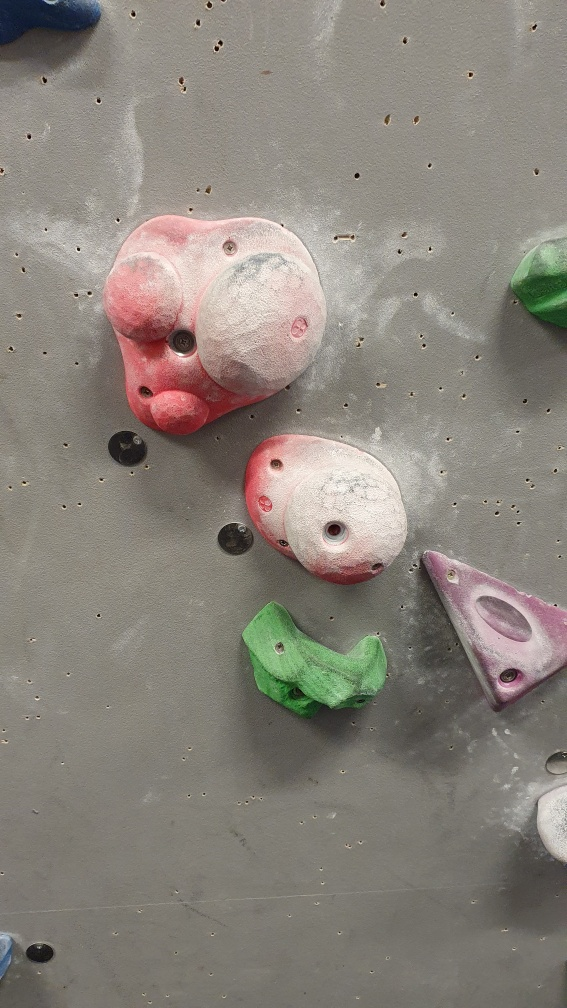Jug: (239, 596, 395, 727)
Sloper: (103, 210, 330, 443), (243, 428, 411, 587)
